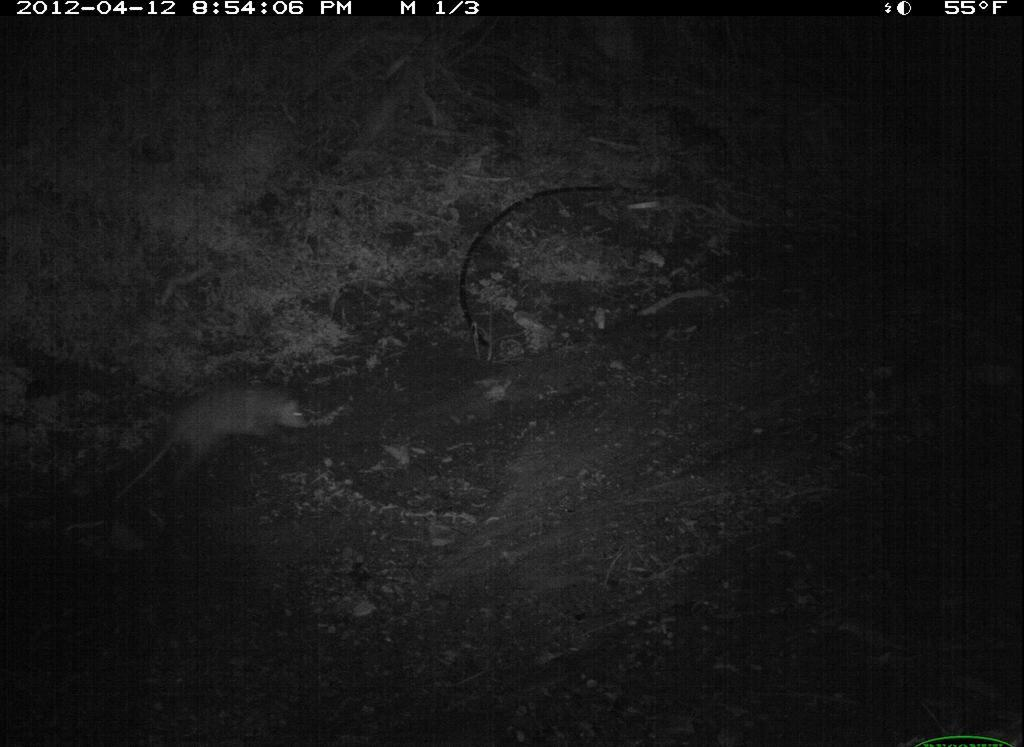opossum: (109, 376, 319, 509)
